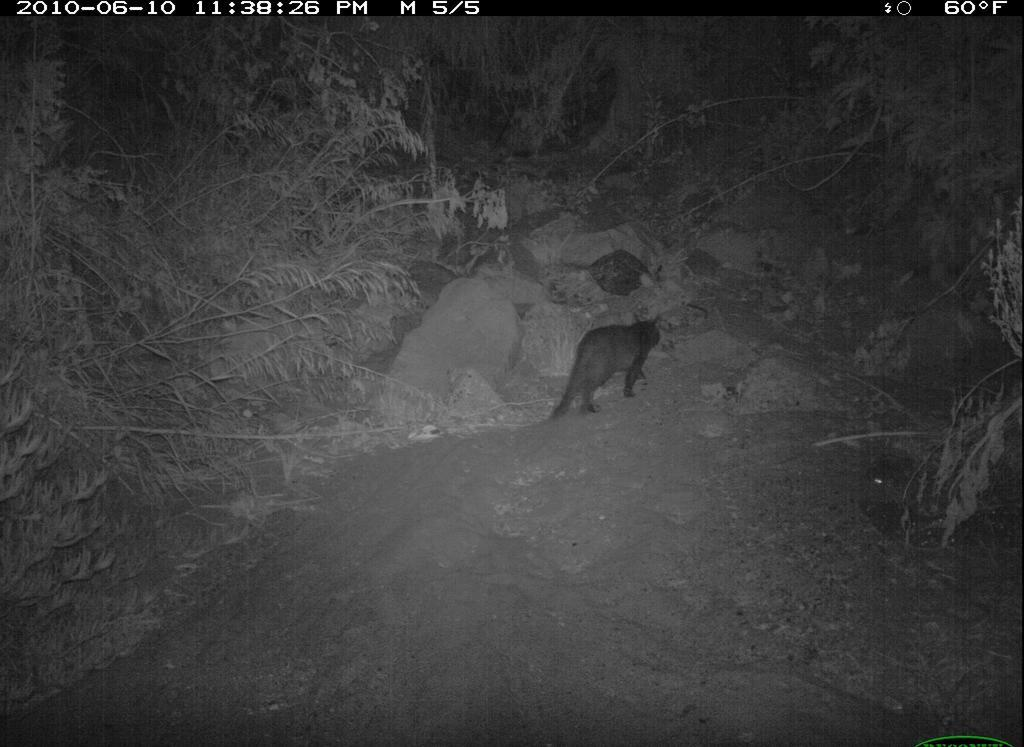cat: (546, 301, 669, 427)
